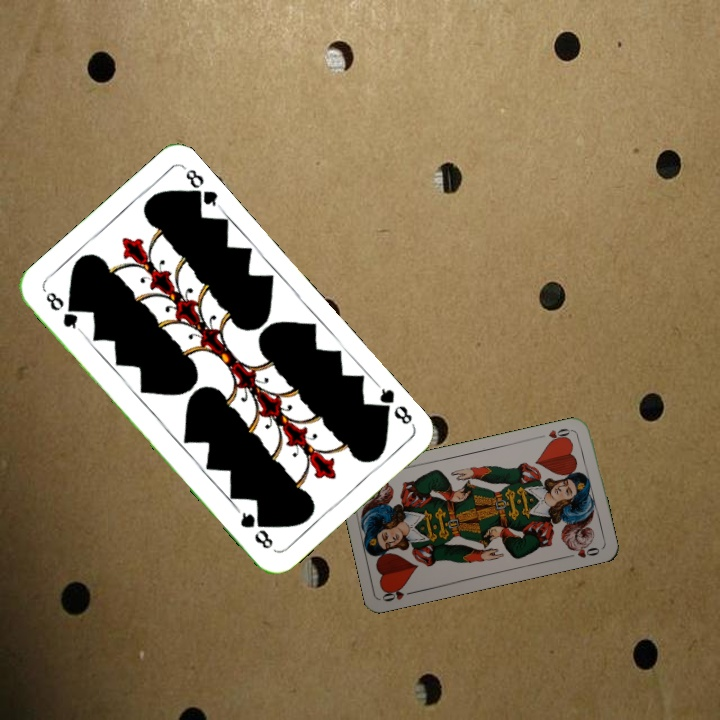G8: (371, 380, 416, 428), (41, 288, 84, 335)
HO: (535, 424, 576, 446), (378, 583, 419, 604)
